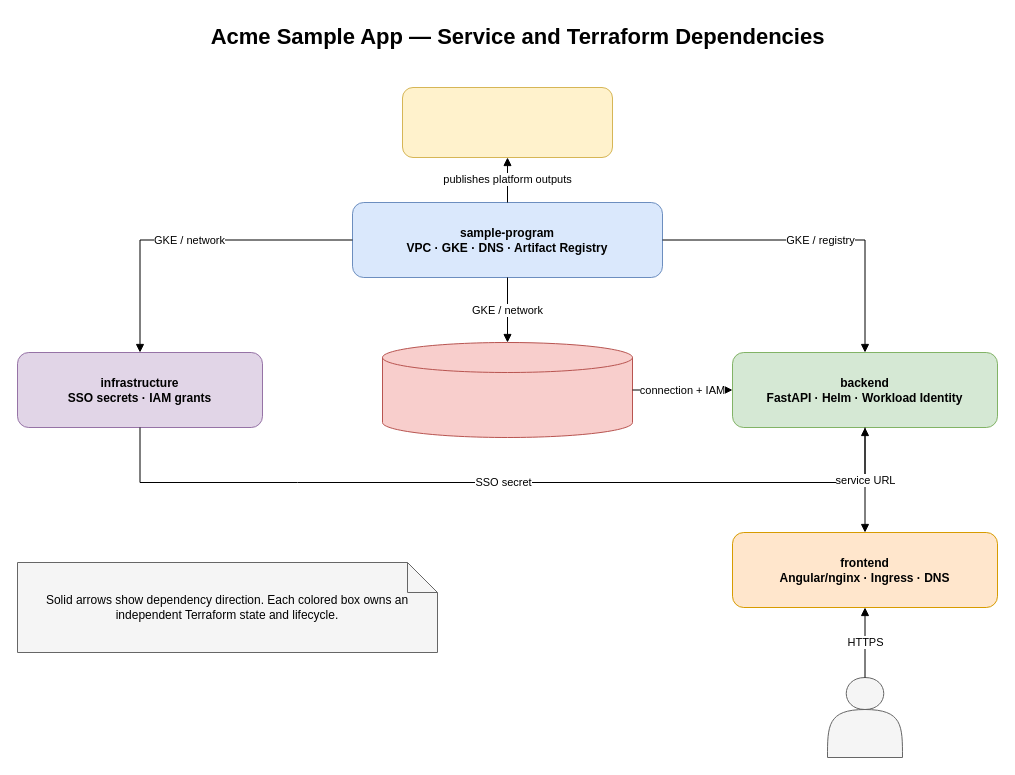
Image size: 1015x775. Some labels were removed from this diagram. The shapes that lost their labels are listed below. From the top down, each one's box as (x1, y1, x2, y2) in pixels, then its label:
(402, 86, 612, 158): Consul KV versioned cross-root contracts
(382, 342, 632, 438): cloudsql Database · grant/revoke functions
(826, 676, 902, 758): Users
